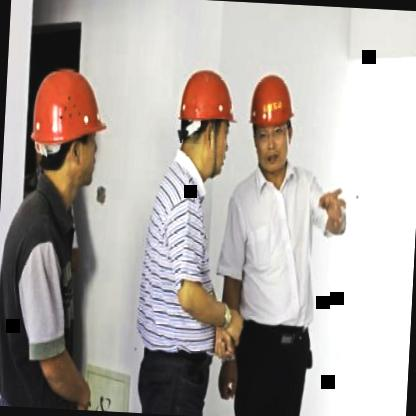helmet: (26, 62, 110, 200), (175, 66, 237, 180), (246, 70, 299, 178)
